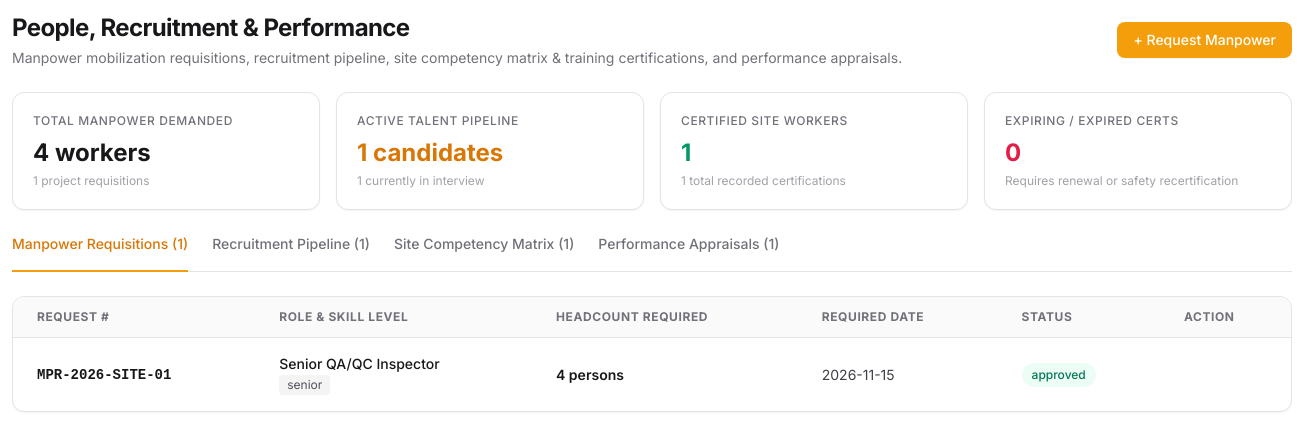
Scenario: M24: People, Recruitment & Performance Page › switches to Recruitment tab and displays candidate pipeline details
The width and height of the screenshot is (1304, 440).
Click the button "Recruitment Pipeline (1)".
click(291, 253)  # box 212,234 -> 370,272
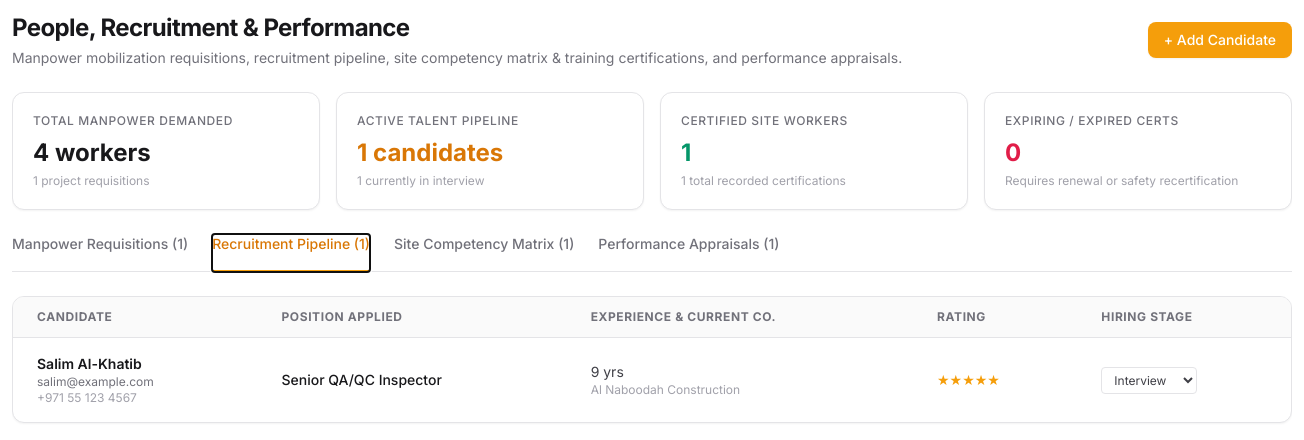
Expected: the text "Salim Al-Khatib" is shown, 37,355 -> 142,372
Expected: the text "Al Naboodah Construction" is shown, 591,382 -> 740,397
Expected: the text "9 yrs" is shown, 591,363 -> 624,380
